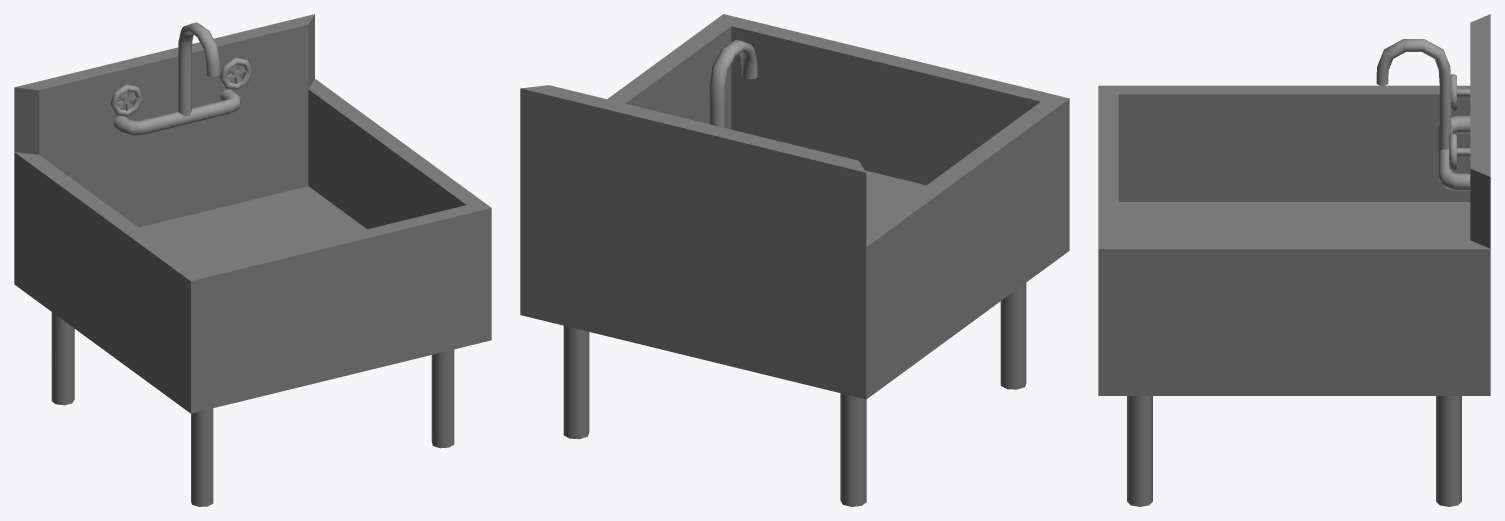
The model's file is ASFTR_Sink.fbx.
3 renders of one model, left to right at view 1: azimuth 30°, elevation 25°; view 2: azimuth 150°, elevation 25°; view 3: azimuth 270°, elevation 25°, orthographic. The views are drawn at different scales.
Parts seen in each view (by area): view 1: Sink; view 2: Sink; view 3: Sink.
Part boxes in pixels (x1,y1,x2,y2): Sink: [14, 14, 491, 506]; Sink: [520, 14, 1069, 506]; Sink: [1098, 14, 1490, 506].
Bounding box in the file's own units: 97.41 × 110 × 99.06.
